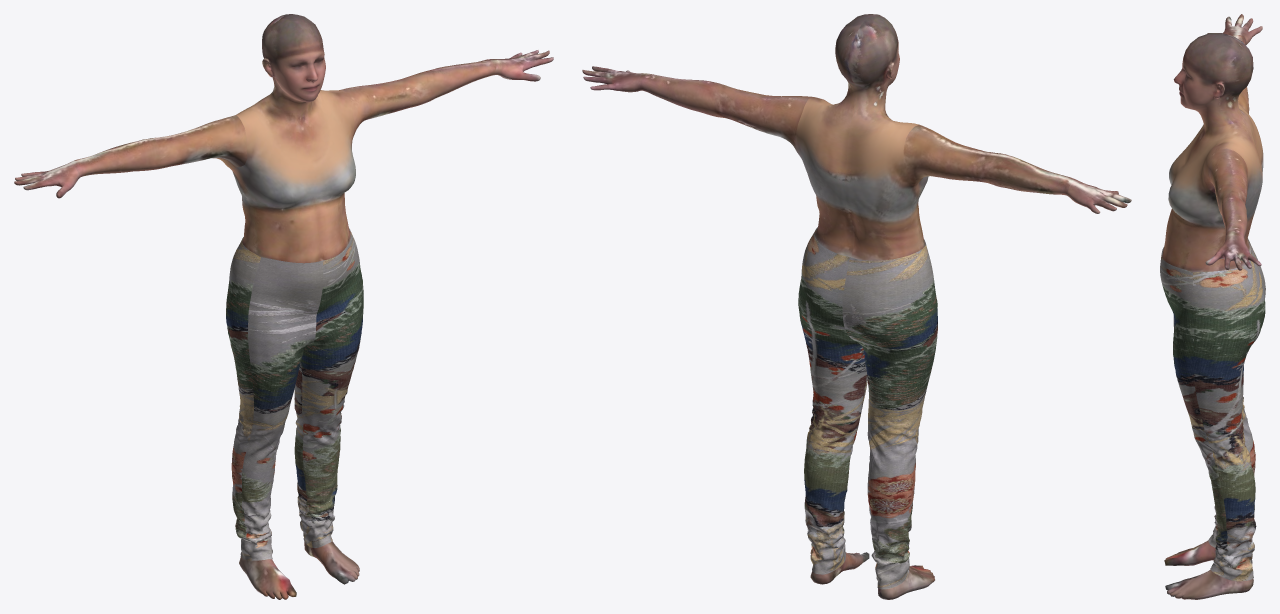
The model's file is pants_flare_80268B5MFR_sim_with_smpl.obj.
3 views of the same model, side by side, from view 1: azimuth 30°, elevation 25°; view 2: azimuth 150°, elevation 25°; view 3: azimuth 270°, elevation 25° (orthographic). The views are drawn at different scales.
Size of the model in its own units: 167 by 166 by 29.27.
Materials: 2 (2 with a texture image).
